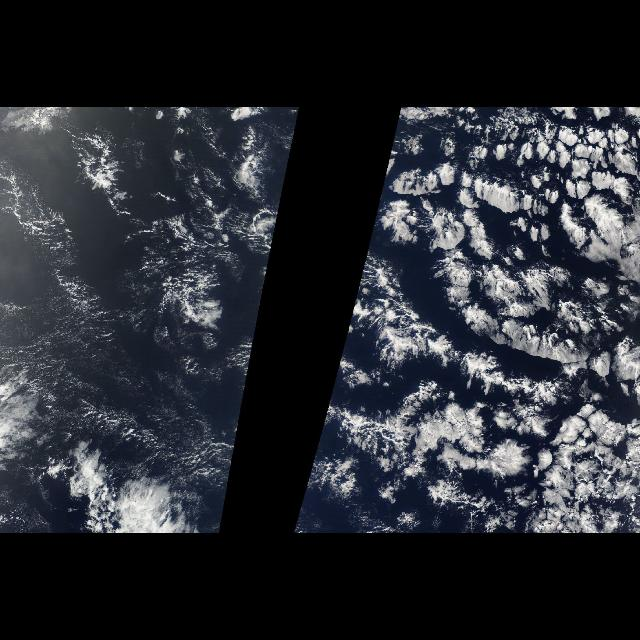Flower: (378, 114, 636, 530)
